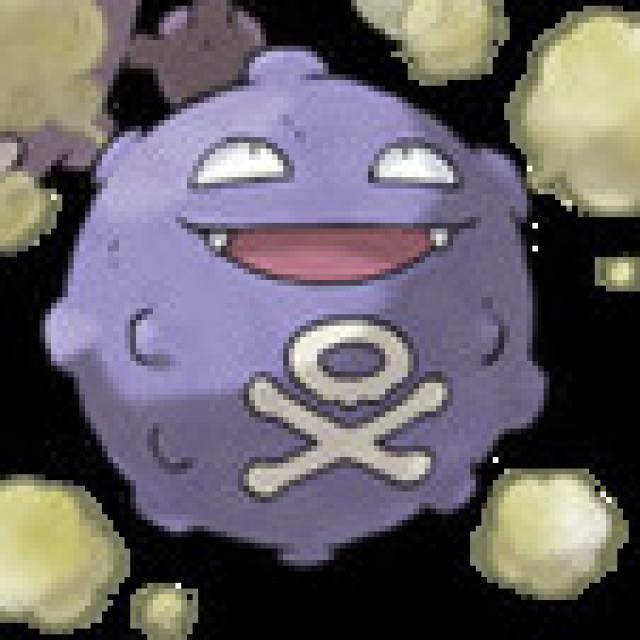Koffing: (46, 57, 548, 566)
